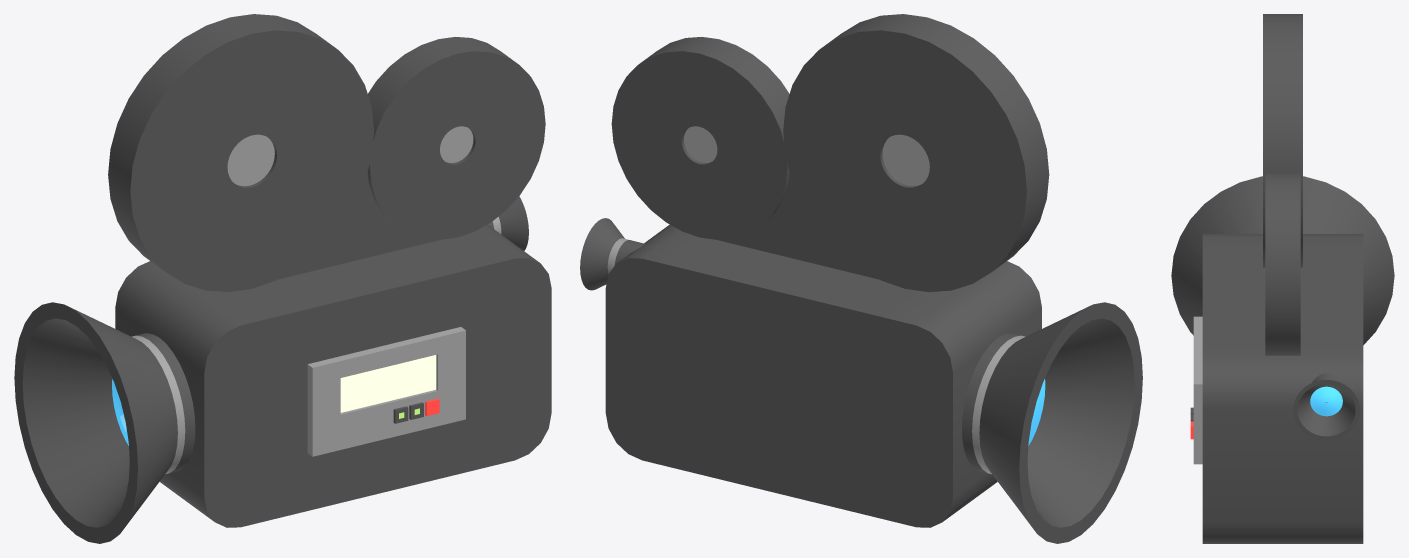
File: movie_camera.glb
3 views of the same model, side by side, from view 1: azimuth 30°, elevation 25°; view 2: azimuth 150°, elevation 25°; view 3: azimuth 270°, elevation 25° (orthographic). The views are drawn at different scales.
Visible parts, largest first — view 1: Cube.934; view 2: Cube.934; view 3: Cube.934.
Boxes of the visible parts, box(x1,y1,x2,y2) form: Cube.934: box(14, 14, 551, 543); Cube.934: box(580, 14, 1142, 543); Cube.934: box(1171, 14, 1394, 543).
Bounding box in the file's own units: 2.14 × 2.09 × 0.9994.
Materials: 1 (1 with a texture image).
